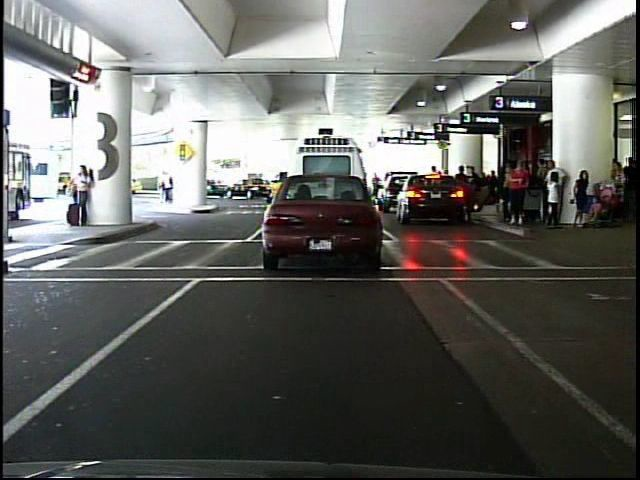person: (72, 161, 96, 229), (509, 158, 531, 228), (152, 162, 179, 206)
